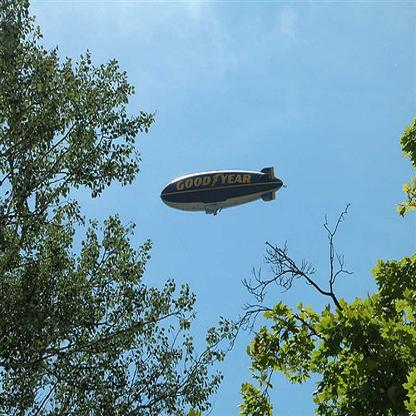Airship: (158, 163, 290, 219)
